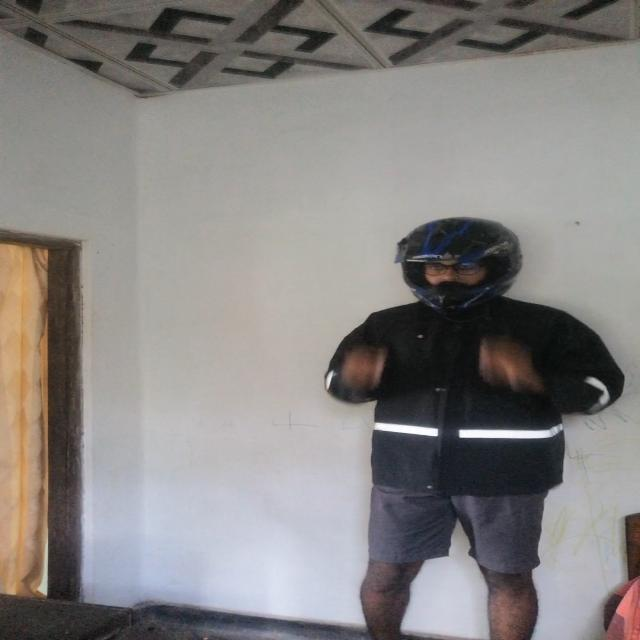Helmet_Wearer: (380, 210, 524, 310)
Jacket_Wearer: (329, 294, 628, 503)
Person: (330, 212, 618, 630)
